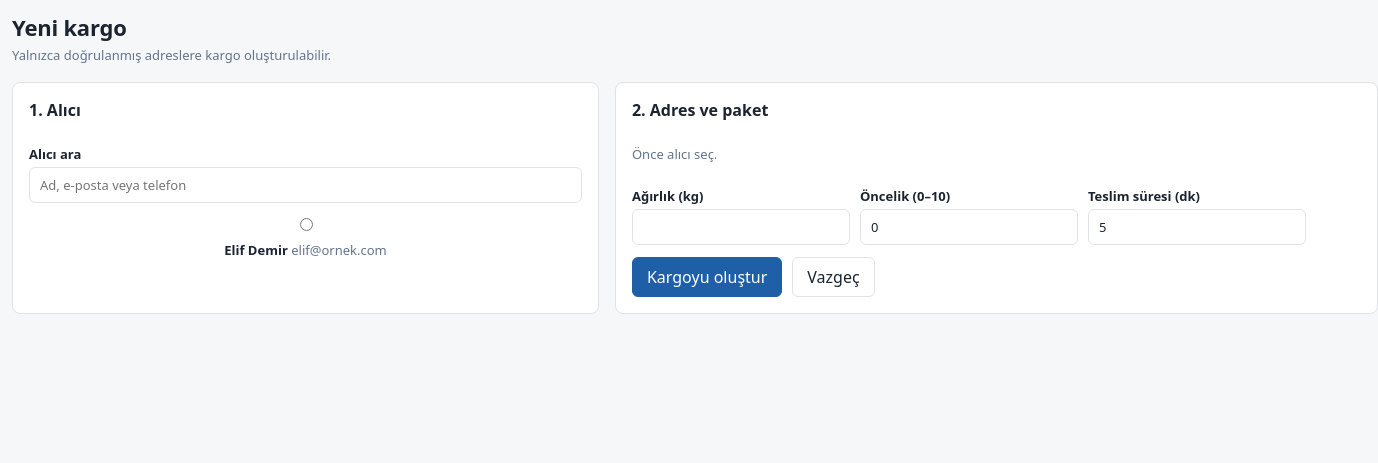
Test: NewShipmentPage › should not allow choosing an unverified address
Click the radio button labelled "Elif Demir elif@ornek.com": click(306, 224) [300,218,313,231]
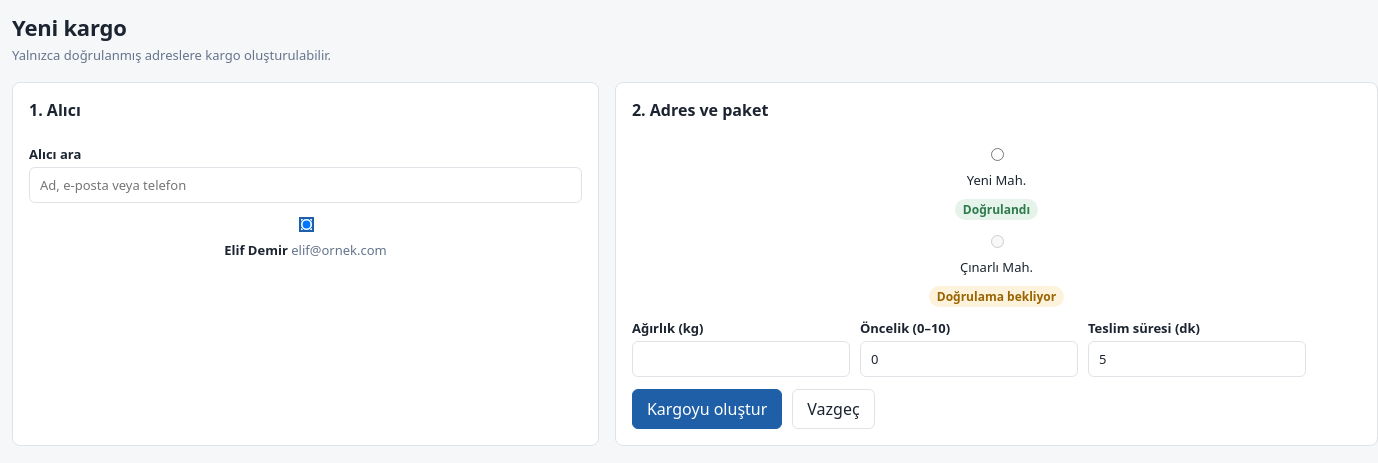
Expected: the radio button labelled "Çınarlı Mah. Doğrulama bekliyor" is disabled, [991,235,1004,248]
Expected: the radio button labelled "Yeni Mah. Doğrulandı" is enabled, [991,148,1004,161]
